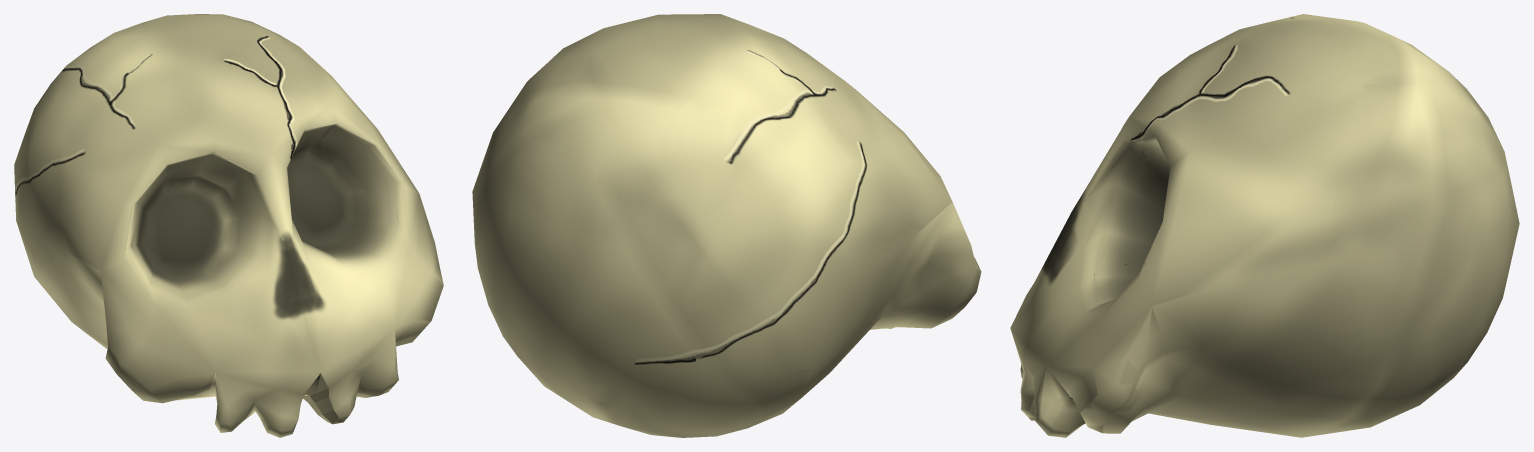
The model's file is Skull.fbx.
3 renders of one model, left to right at view 1: azimuth 30°, elevation 25°; view 2: azimuth 150°, elevation 25°; view 3: azimuth 270°, elevation 25°, orthographic. The views are drawn at different scales.
Parts seen in each view (by area): view 1: Icosphere.001; view 2: Icosphere.001; view 3: Icosphere.001.
Part boxes in pixels (<box>): Icosphere.001: <box>14,14,443,437</box>; Icosphere.001: <box>472,14,981,437</box>; Icosphere.001: <box>1010,14,1519,437</box>.
Size of the model in its own units: 99.7 by 93.79 by 113.
